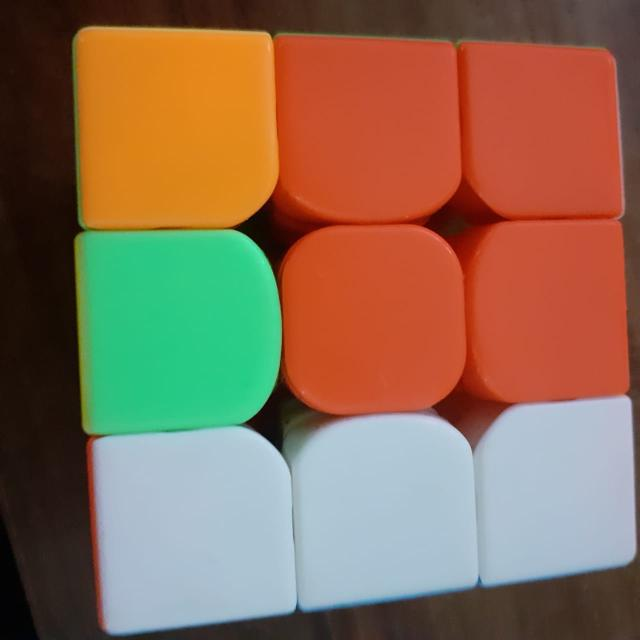Green: (80, 236, 266, 419)
Orange: (82, 34, 262, 222)
Red: (283, 38, 457, 214), (460, 36, 616, 218), (298, 229, 452, 403), (472, 227, 624, 393)
White: (97, 446, 289, 614), (303, 429, 465, 595), (481, 407, 631, 571)
